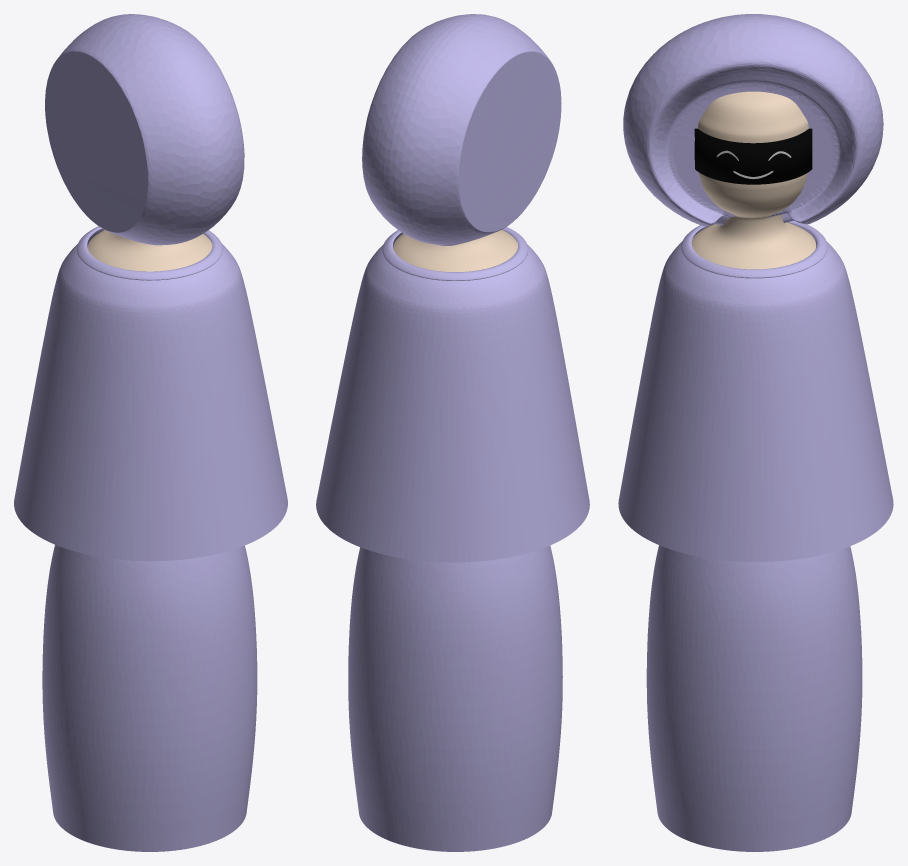
File: Nanny.fbx
3 renders of one model, left to right at view 1: azimuth 30°, elevation 25°; view 2: azimuth 150°, elevation 25°; view 3: azimuth 270°, elevation 25°, orthographic.
Visible parts, largest first — view 1: Cylinder.003, Cylinder.001, Cylinder; view 2: Cylinder.003, Cylinder.001, Cylinder; view 3: Cylinder.003, Cylinder.001, Cylinder, Cylinder.002.
Part boxes in pixels (x1=…): Cylinder.003: x1=14, y1=226, x2=287, y2=851; Cylinder.001: x1=45, y1=14, x2=244, y2=245; Cylinder: x1=88, y1=230, x2=212, y2=271; Cylinder.003: x1=316, y1=227, x2=589, y2=851; Cylinder.001: x1=362, y1=14, x2=561, y2=245; Cylinder: x1=393, y1=229, x2=517, y2=271; Cylinder.003: x1=618, y1=220, x2=893, y2=851; Cylinder.001: x1=623, y1=14, x2=883, y2=226; Cylinder: x1=691, y1=91, x2=816, y2=269; Cylinder.002: x1=694, y1=128, x2=812, y2=184.
Size of the model in its own units: 210 by 668 by 211.
